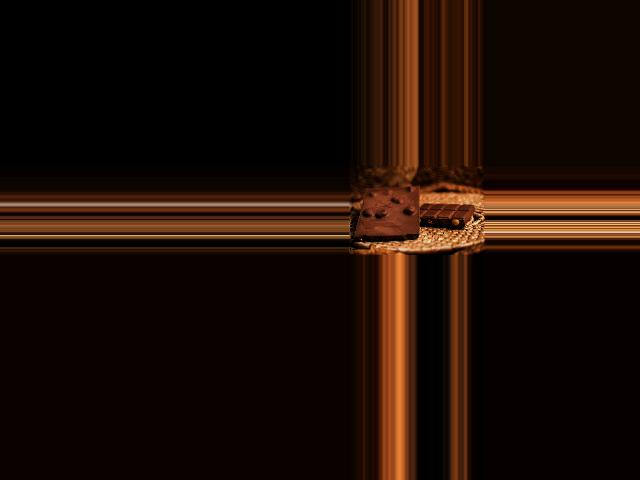chocolate: (353, 184, 423, 241)
